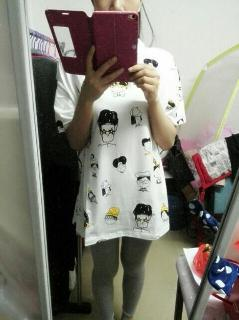short sleeve dress: (54, 38, 187, 246)
trousers: (88, 186, 157, 319)
